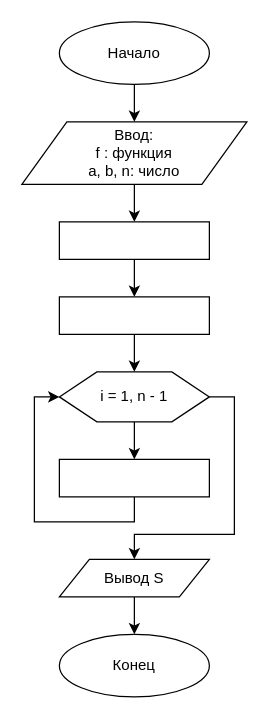
Image size: 269x719. Some labels were removed from this diagram. The box of each missing label's shape, as (x1, y1, x2, y2) in pixels:
h = (b-a)/n: (58, 221, 209, 259)
S = S+h*f(a+i*h): (58, 458, 209, 497)
S=h*(f(a)+f(b))/2: (58, 296, 209, 334)
